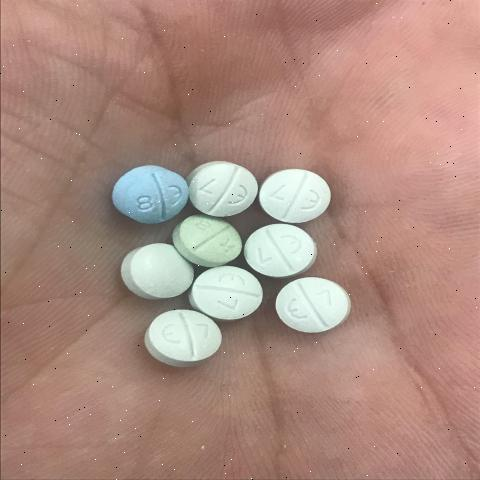Pill: (270, 278, 394, 343), (136, 307, 224, 377), (257, 154, 343, 224), (107, 239, 196, 306), (192, 259, 268, 322), (244, 220, 322, 278), (189, 154, 260, 216)
